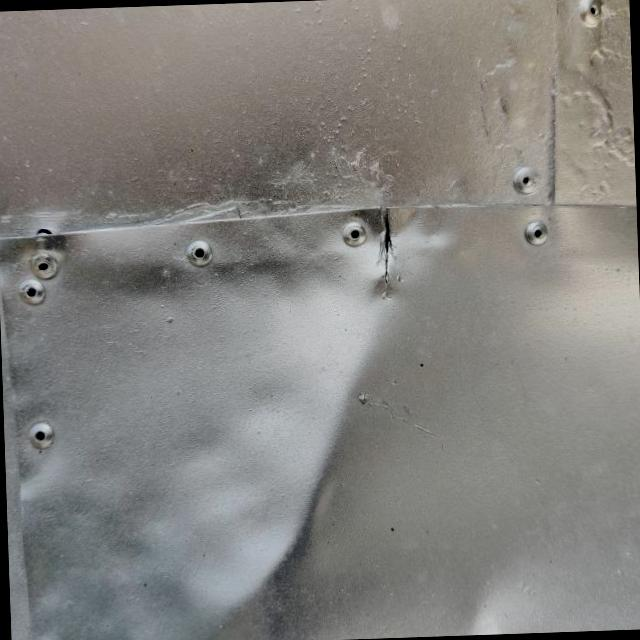crack: (357, 190, 422, 308)
dent: (162, 327, 410, 640)
